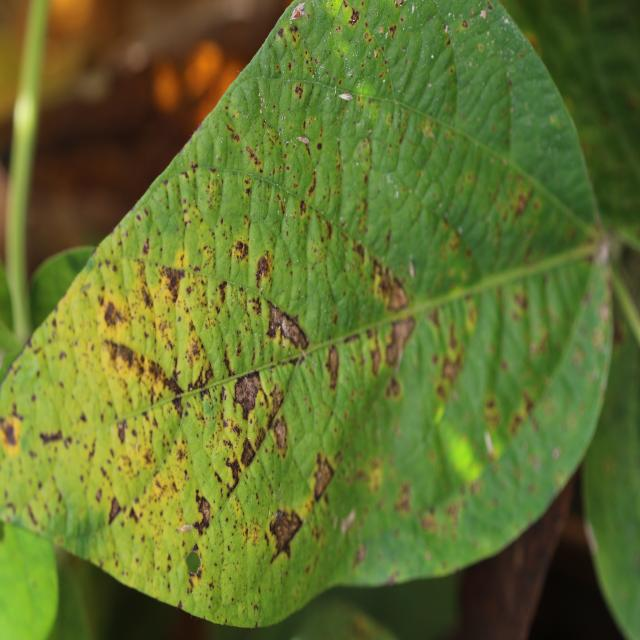Bacterial_Blight: (262, 492, 304, 560), (266, 300, 309, 349), (503, 389, 537, 441), (383, 317, 415, 372), (233, 370, 262, 421), (312, 455, 335, 503), (187, 359, 215, 395), (159, 264, 184, 300), (364, 456, 385, 497), (192, 493, 212, 535), (386, 279, 409, 312), (482, 396, 503, 432), (272, 416, 288, 457), (325, 344, 339, 390), (440, 358, 460, 389), (239, 437, 256, 470), (394, 483, 412, 514), (103, 299, 122, 328), (593, 238, 612, 267), (369, 339, 383, 378), (512, 189, 530, 219), (279, 353, 306, 373), (225, 455, 241, 488), (115, 342, 134, 367), (255, 254, 271, 283), (230, 238, 249, 262), (340, 510, 356, 536), (108, 496, 122, 525), (39, 429, 64, 445), (186, 550, 202, 575), (2, 421, 17, 446), (245, 146, 262, 168), (385, 377, 401, 400), (352, 543, 367, 567), (290, 2, 306, 21), (172, 393, 184, 418), (225, 122, 240, 141), (297, 136, 311, 156), (116, 419, 127, 444), (217, 280, 228, 302), (348, 8, 360, 27), (128, 504, 140, 522), (408, 260, 416, 279), (178, 524, 193, 534), (338, 92, 353, 102), (294, 83, 303, 99), (142, 237, 150, 255), (552, 446, 562, 460), (388, 24, 397, 39), (363, 31, 373, 43), (235, 342, 242, 357), (277, 27, 284, 39), (479, 10, 487, 20), (486, 1, 494, 11), (476, 43, 484, 52), (461, 20, 468, 29), (377, 25, 384, 34), (445, 37, 451, 47), (444, 25, 450, 35), (316, 141, 322, 150), (177, 600, 183, 609), (336, 25, 341, 33), (360, 62, 365, 70), (314, 58, 319, 65)
Soybean: (0, 0, 613, 626)
